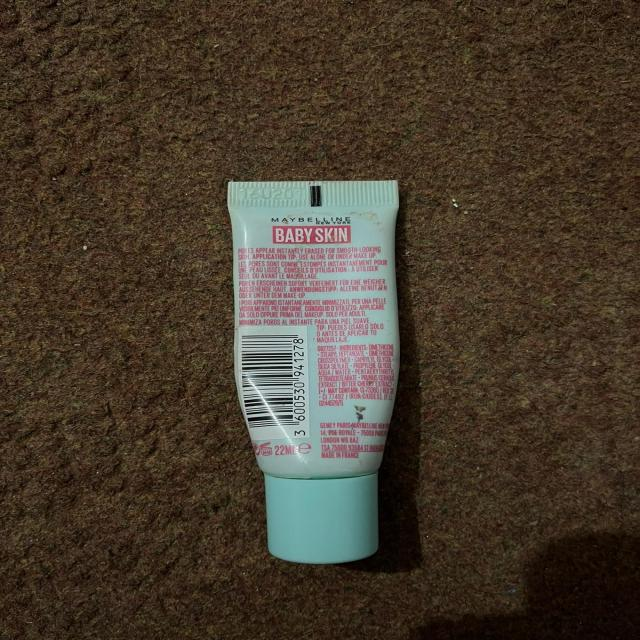lotion: (193, 158, 436, 582)
